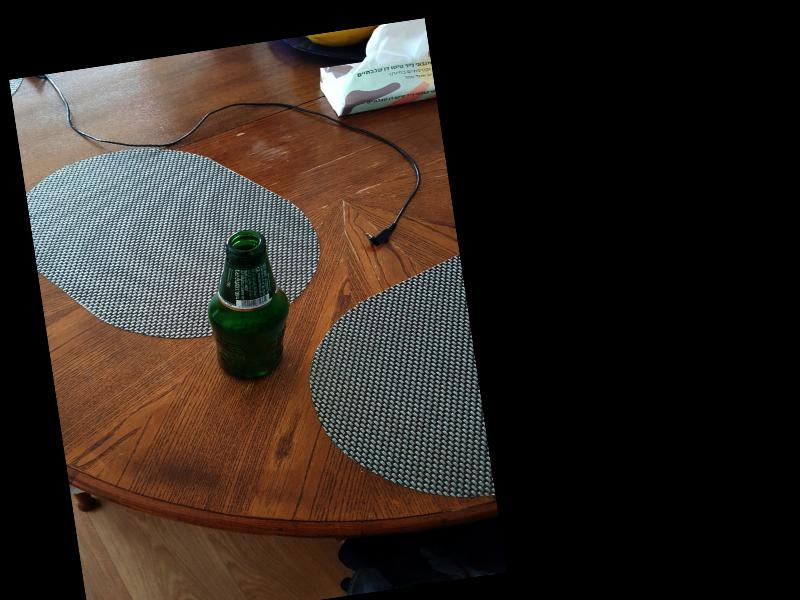Beer: (197, 225, 296, 384)
